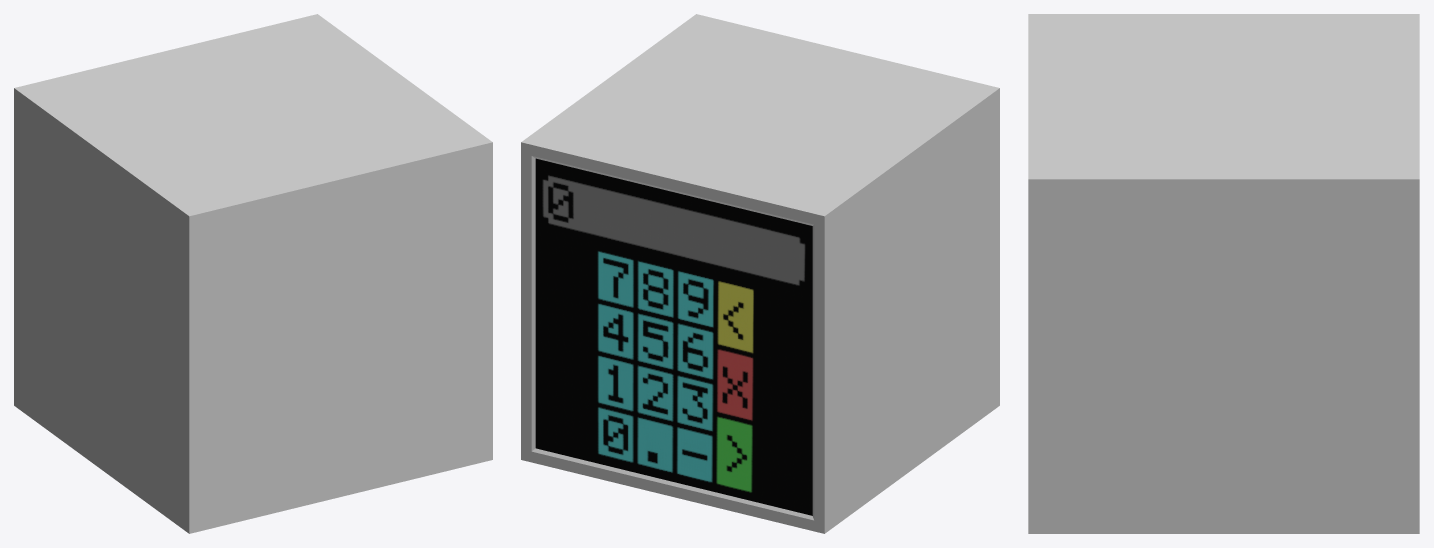
Rendered from Numpad.gltf.
The picture shows the model from 3 angles, left to right: view 1: azimuth 30°, elevation 25°; view 2: azimuth 150°, elevation 25°; view 3: azimuth 270°, elevation 25°; orthographic projection. The views are drawn at different scales.
Parts seen in each view (by area): view 1: body; view 2: body; view 3: body.
Boxes of the visible parts, x1,y1,x2,y2 form: body: (14,14,492,533); body: (521,14,999,533); body: (1028,14,1419,533).
Size of the model in its own units: 0.25 by 0.2706 by 0.25.
3 materials, 1 textured.
